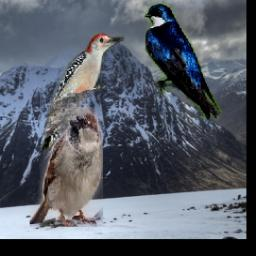Sparrow: (29, 107, 102, 227)
Swallow: (143, 4, 221, 121)
Woodpecker: (41, 33, 124, 152)
